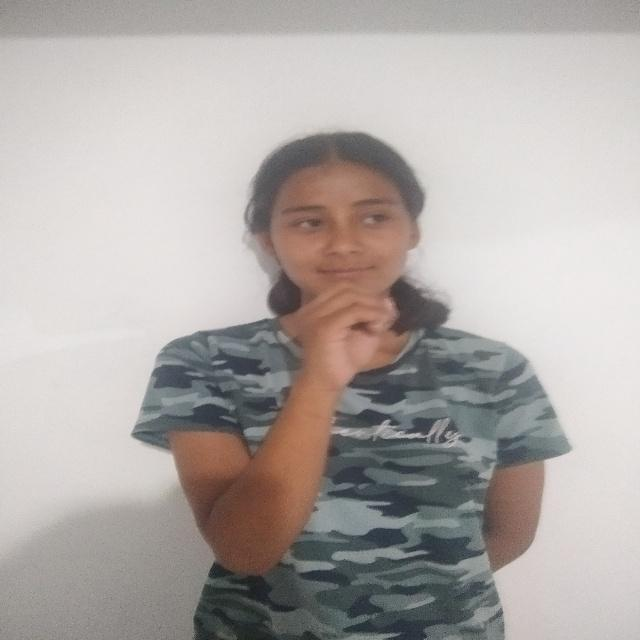Fist Mouth: (239, 130, 457, 394)
